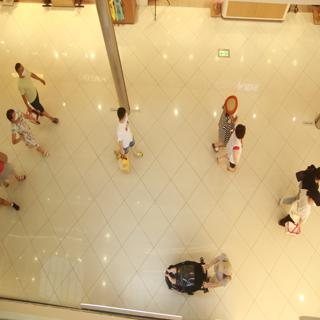person: (7, 57, 59, 124), (2, 103, 60, 163), (106, 96, 148, 171), (274, 170, 320, 237), (201, 243, 239, 296), (214, 87, 241, 143), (227, 121, 250, 176)
